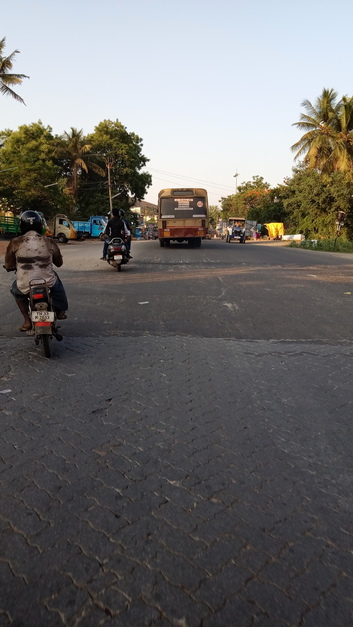bump: (132, 257, 334, 268)
